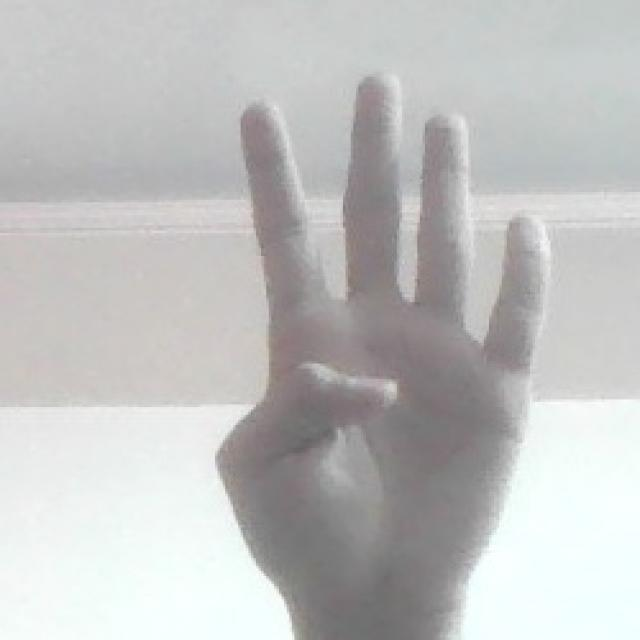Numeric-4: (238, 74, 550, 592)
